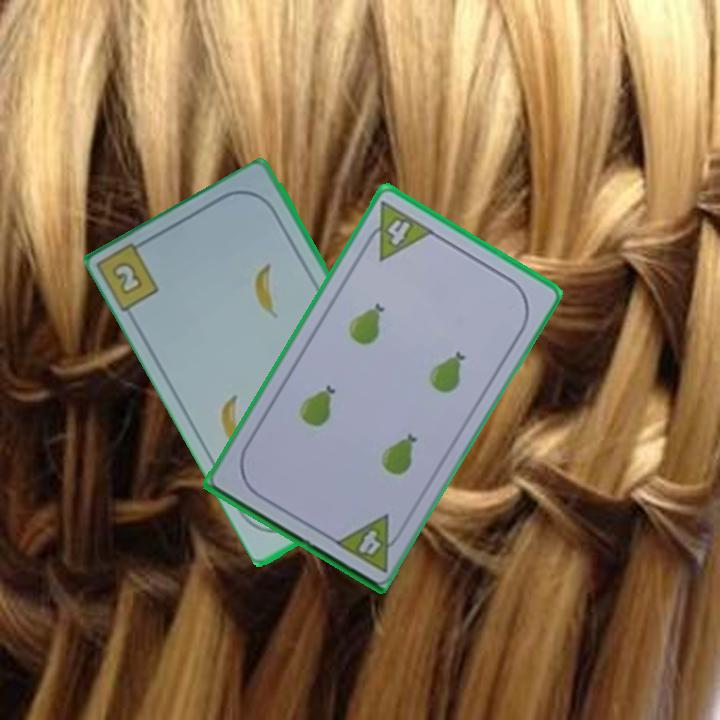2b: (112, 261, 147, 298)
4p: (357, 197, 436, 264), (330, 511, 408, 574)
